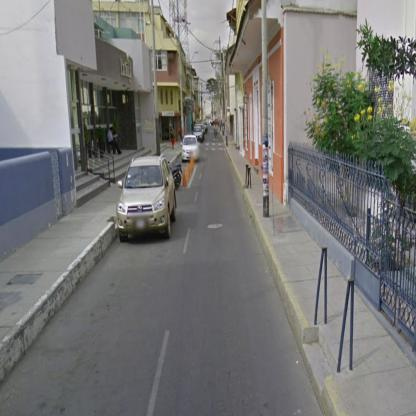Pista: (2, 126, 323, 414)
Vehiculo: (117, 156, 178, 248), (181, 134, 201, 164)
